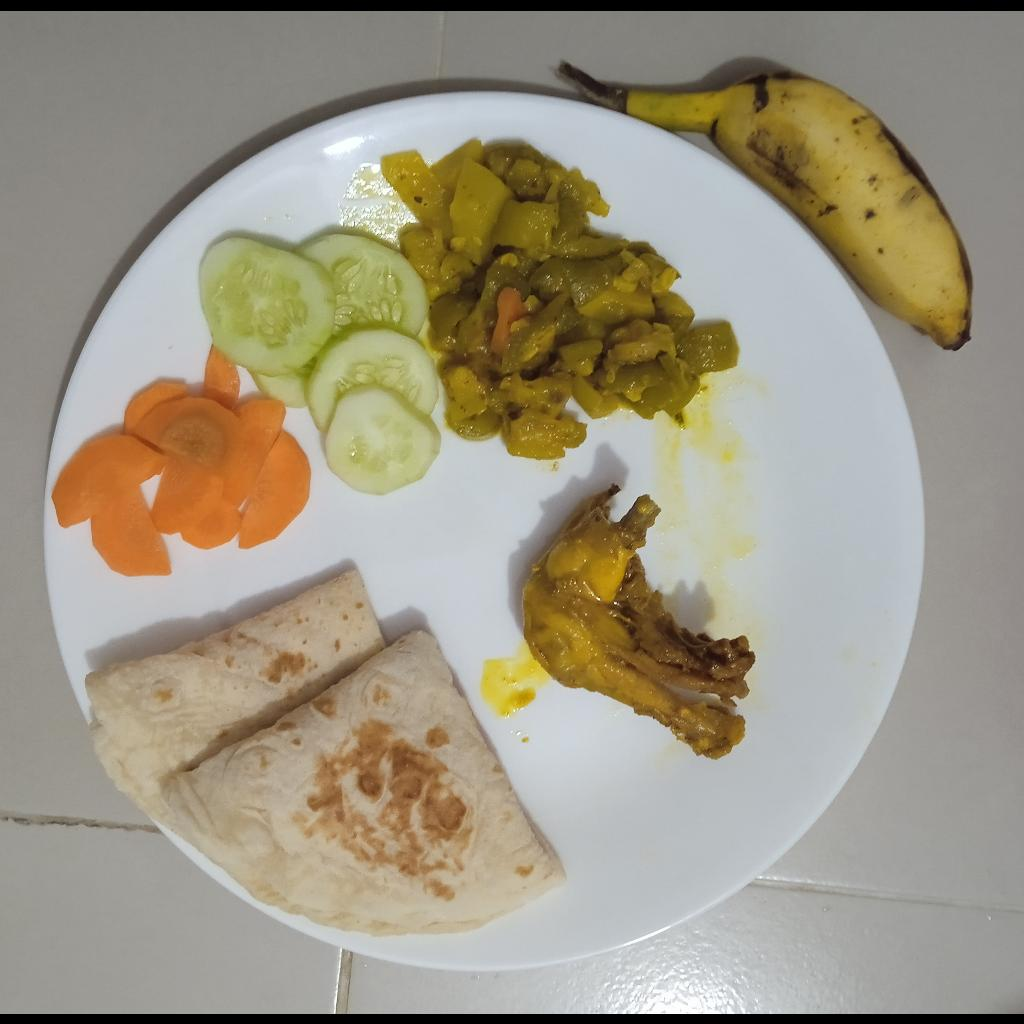banana: (626, 70, 977, 352)
carrot: (49, 345, 314, 577)
chicken: (523, 484, 755, 761)
cucumber: (198, 232, 442, 496)
ruti: (78, 565, 567, 936)
vegetable: (379, 137, 737, 457)
